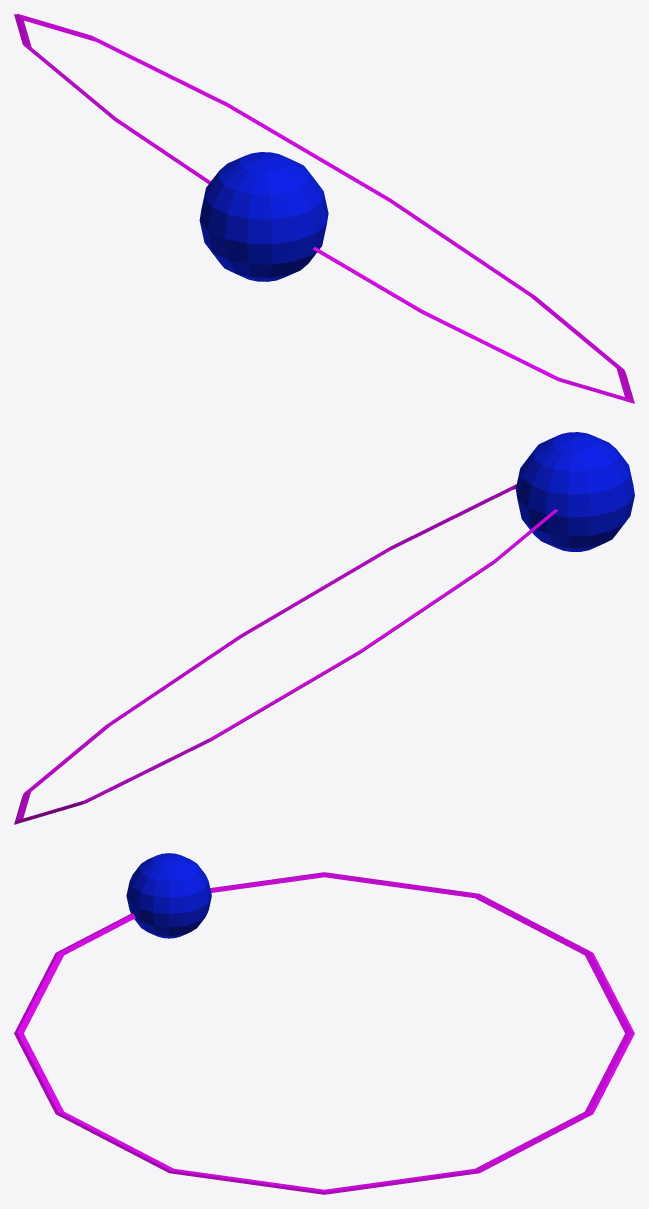
File: 3.MercuryFullAnimation.fbx
The picture shows the model from 3 angles, top to bottom: view 1: azimuth 30°, elevation 25°; view 2: azimuth 150°, elevation 25°; view 3: azimuth 270°, elevation 25°; orthographic projection. The views are drawn at different scales.
Visible parts, largest first — view 1: 3.-Earth, 3.-EarthOrbit; view 2: 3.-Earth, 3.-EarthOrbit; view 3: 3.-EarthOrbit, 3.-Earth.
Boxes of the visible parts, x1=… form: 3.-Earth: x1=199, y1=152, x2=328, y2=281; 3.-EarthOrbit: x1=14, y1=14, x2=634, y2=403; 3.-Earth: x1=515, y1=432, x2=634, y2=551; 3.-EarthOrbit: x1=14, y1=484, x2=558, y2=824; 3.-EarthOrbit: x1=14, y1=872, x2=634, y2=1194; 3.-Earth: x1=126, y1=853, x2=211, y2=938.
Size of the model in its own units: 106 by 73 by 193.
